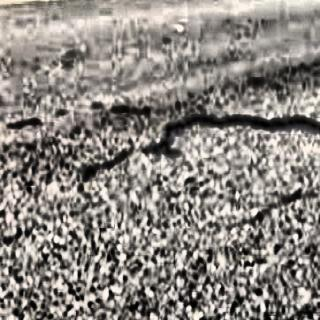crack: (18, 96, 318, 186)
